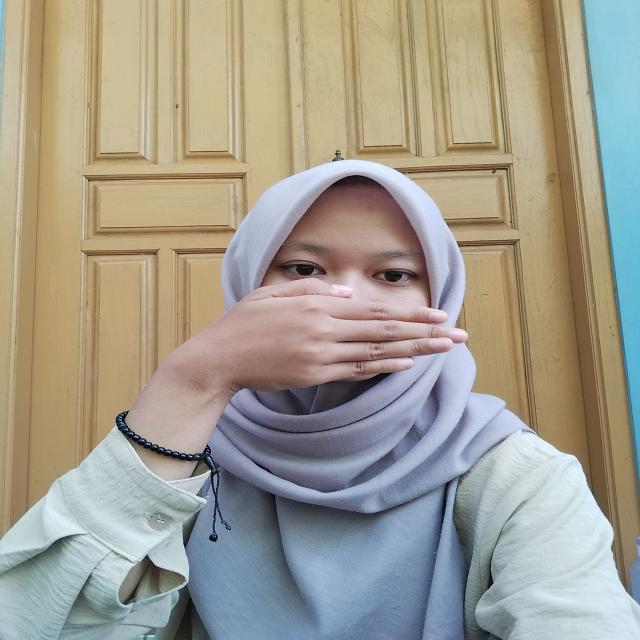buruk: (153, 276, 467, 430)
